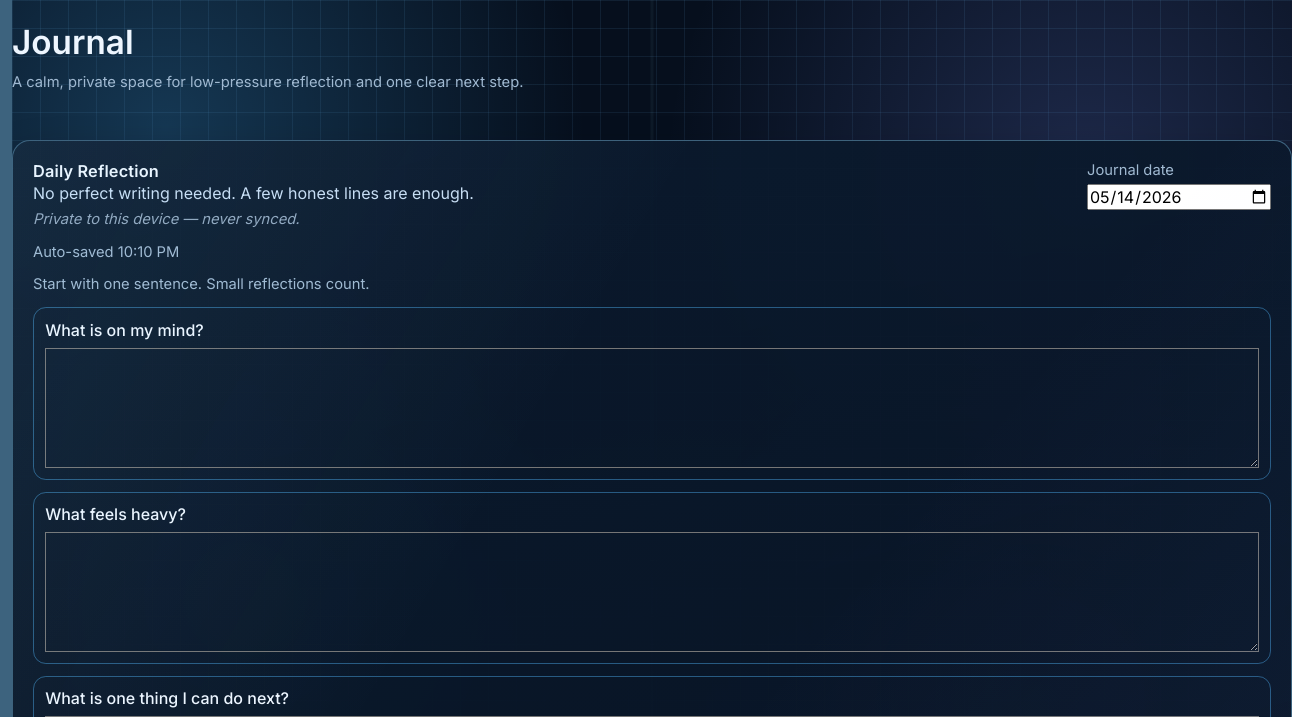
it: src/pages/Journal › pauses autosave status when a journal entry cannot be saved
Type "Unsaved reflection" into the text box labelled "What is on my mind?" at (652, 408), box [45, 348, 1259, 468]
Wait 700 ms
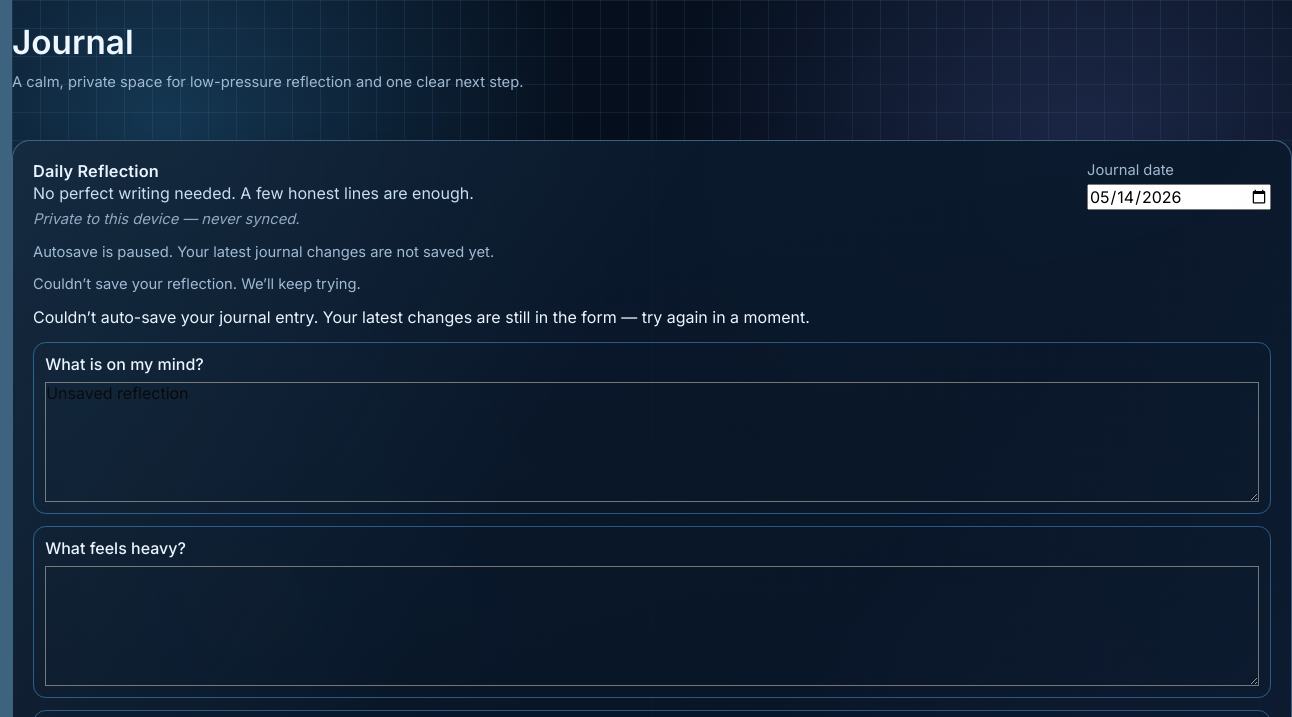
Now the 2nd message shows "Couldn’t auto-save your journal entry. Your latest changes are still in the form — try again in a moment.", box [33, 307, 810, 327]
Now the message "Autosave is paused. Your latest journal changes are not saved yet." is shown, box [33, 243, 494, 261]
